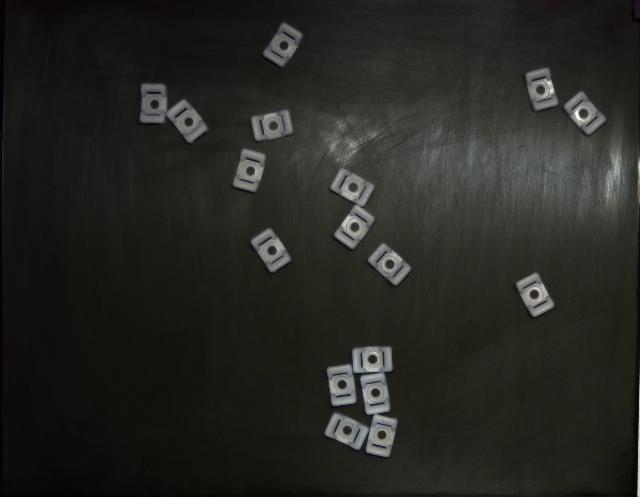first_side: (166, 100, 209, 144), (564, 91, 606, 136), (334, 205, 375, 250), (515, 272, 555, 318), (262, 22, 302, 68), (368, 244, 411, 286), (250, 229, 291, 272), (330, 169, 375, 208), (325, 414, 370, 451), (525, 68, 559, 111), (232, 149, 266, 192), (366, 415, 398, 459), (251, 110, 294, 141), (360, 372, 390, 415), (326, 365, 356, 406), (352, 346, 392, 374), (140, 84, 168, 124)
